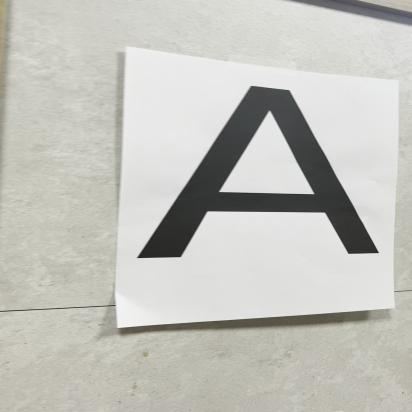seat: (125, 85, 412, 283)
